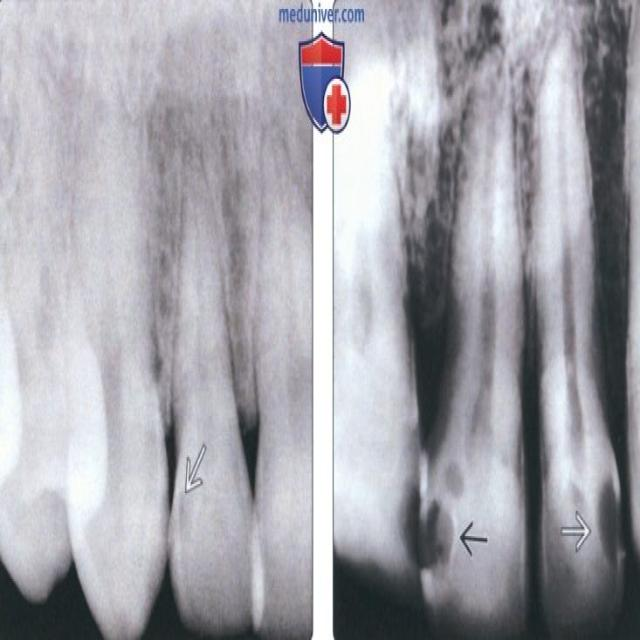Caries: (399, 40, 520, 628), (534, 68, 622, 610)
